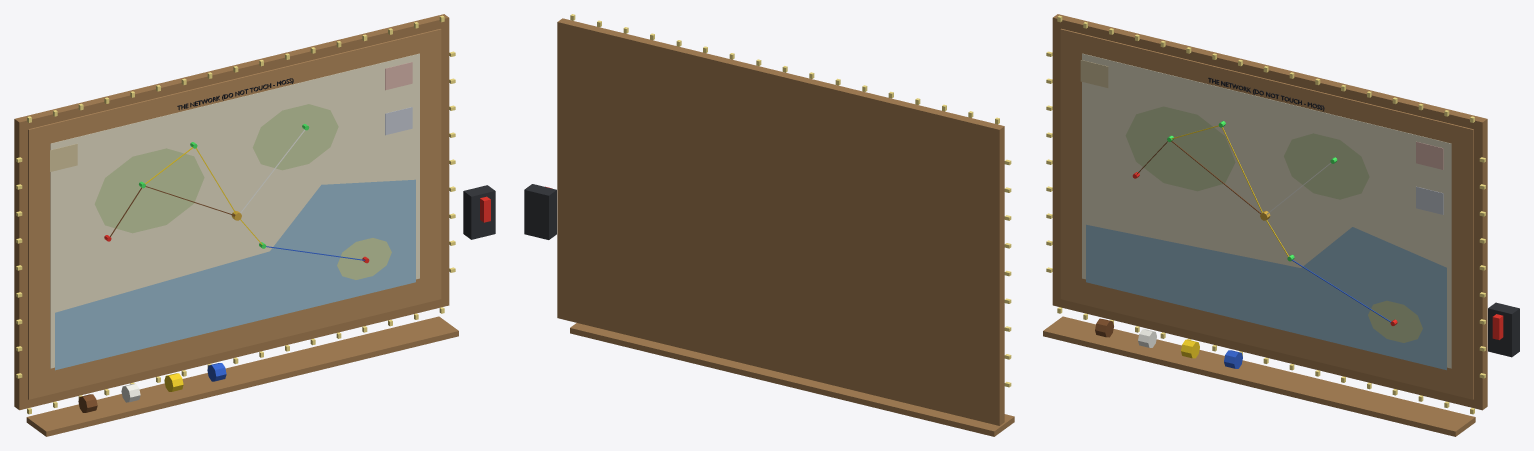
The model's file is dc.pinboard.glb.
3 renders of one model, left to right at view 1: azimuth 30°, elevation 25°; view 2: azimuth 150°, elevation 25°; view 3: azimuth 330°, elevation 25°, orthographic. The views are drawn at different scales.
Parts seen in each view (by area): view 1: map, cork, sea, frame, shelf, land0, land1, land2, big-switch, note0, note1, note2; view 2: frame, shelf, big-switch; view 3: map, cork, sea, frame, shelf, land0, land1, land2, big-switch, note0, note1, note2.
Boxes of the visible parts, bbox=[...] form: map: bbox=[50, 53, 419, 368]; cork: bbox=[28, 29, 441, 399]; sea: bbox=[55, 179, 415, 370]; frame: bbox=[14, 14, 449, 410]; shelf: bbox=[26, 316, 458, 436]; land0: bbox=[94, 148, 204, 233]; land1: bbox=[252, 104, 338, 170]; land2: bbox=[337, 238, 391, 279]; big-switch: bbox=[463, 185, 495, 239]; note0: bbox=[50, 143, 77, 171]; note1: bbox=[385, 62, 412, 90]; note2: bbox=[385, 107, 412, 135]; frame: bbox=[557, 18, 1004, 425]; shelf: bbox=[570, 323, 1014, 436]; big-switch: bbox=[524, 184, 556, 239]; map: bbox=[1082, 53, 1451, 368]; cork: bbox=[1060, 28, 1473, 399]; sea: bbox=[1086, 224, 1446, 370]; frame: bbox=[1052, 14, 1487, 410]; shelf: bbox=[1043, 316, 1475, 436]; land0: bbox=[1125, 106, 1235, 191]; land1: bbox=[1284, 133, 1369, 199]; land2: bbox=[1368, 300, 1422, 342]; big-switch: bbox=[1488, 302, 1519, 357]; note0: bbox=[1080, 60, 1108, 87]; note1: bbox=[1416, 141, 1443, 169]; note2: bbox=[1416, 186, 1443, 214].
Bounding box in the file's own units: 2.74 × 1.71 × 0.235.
